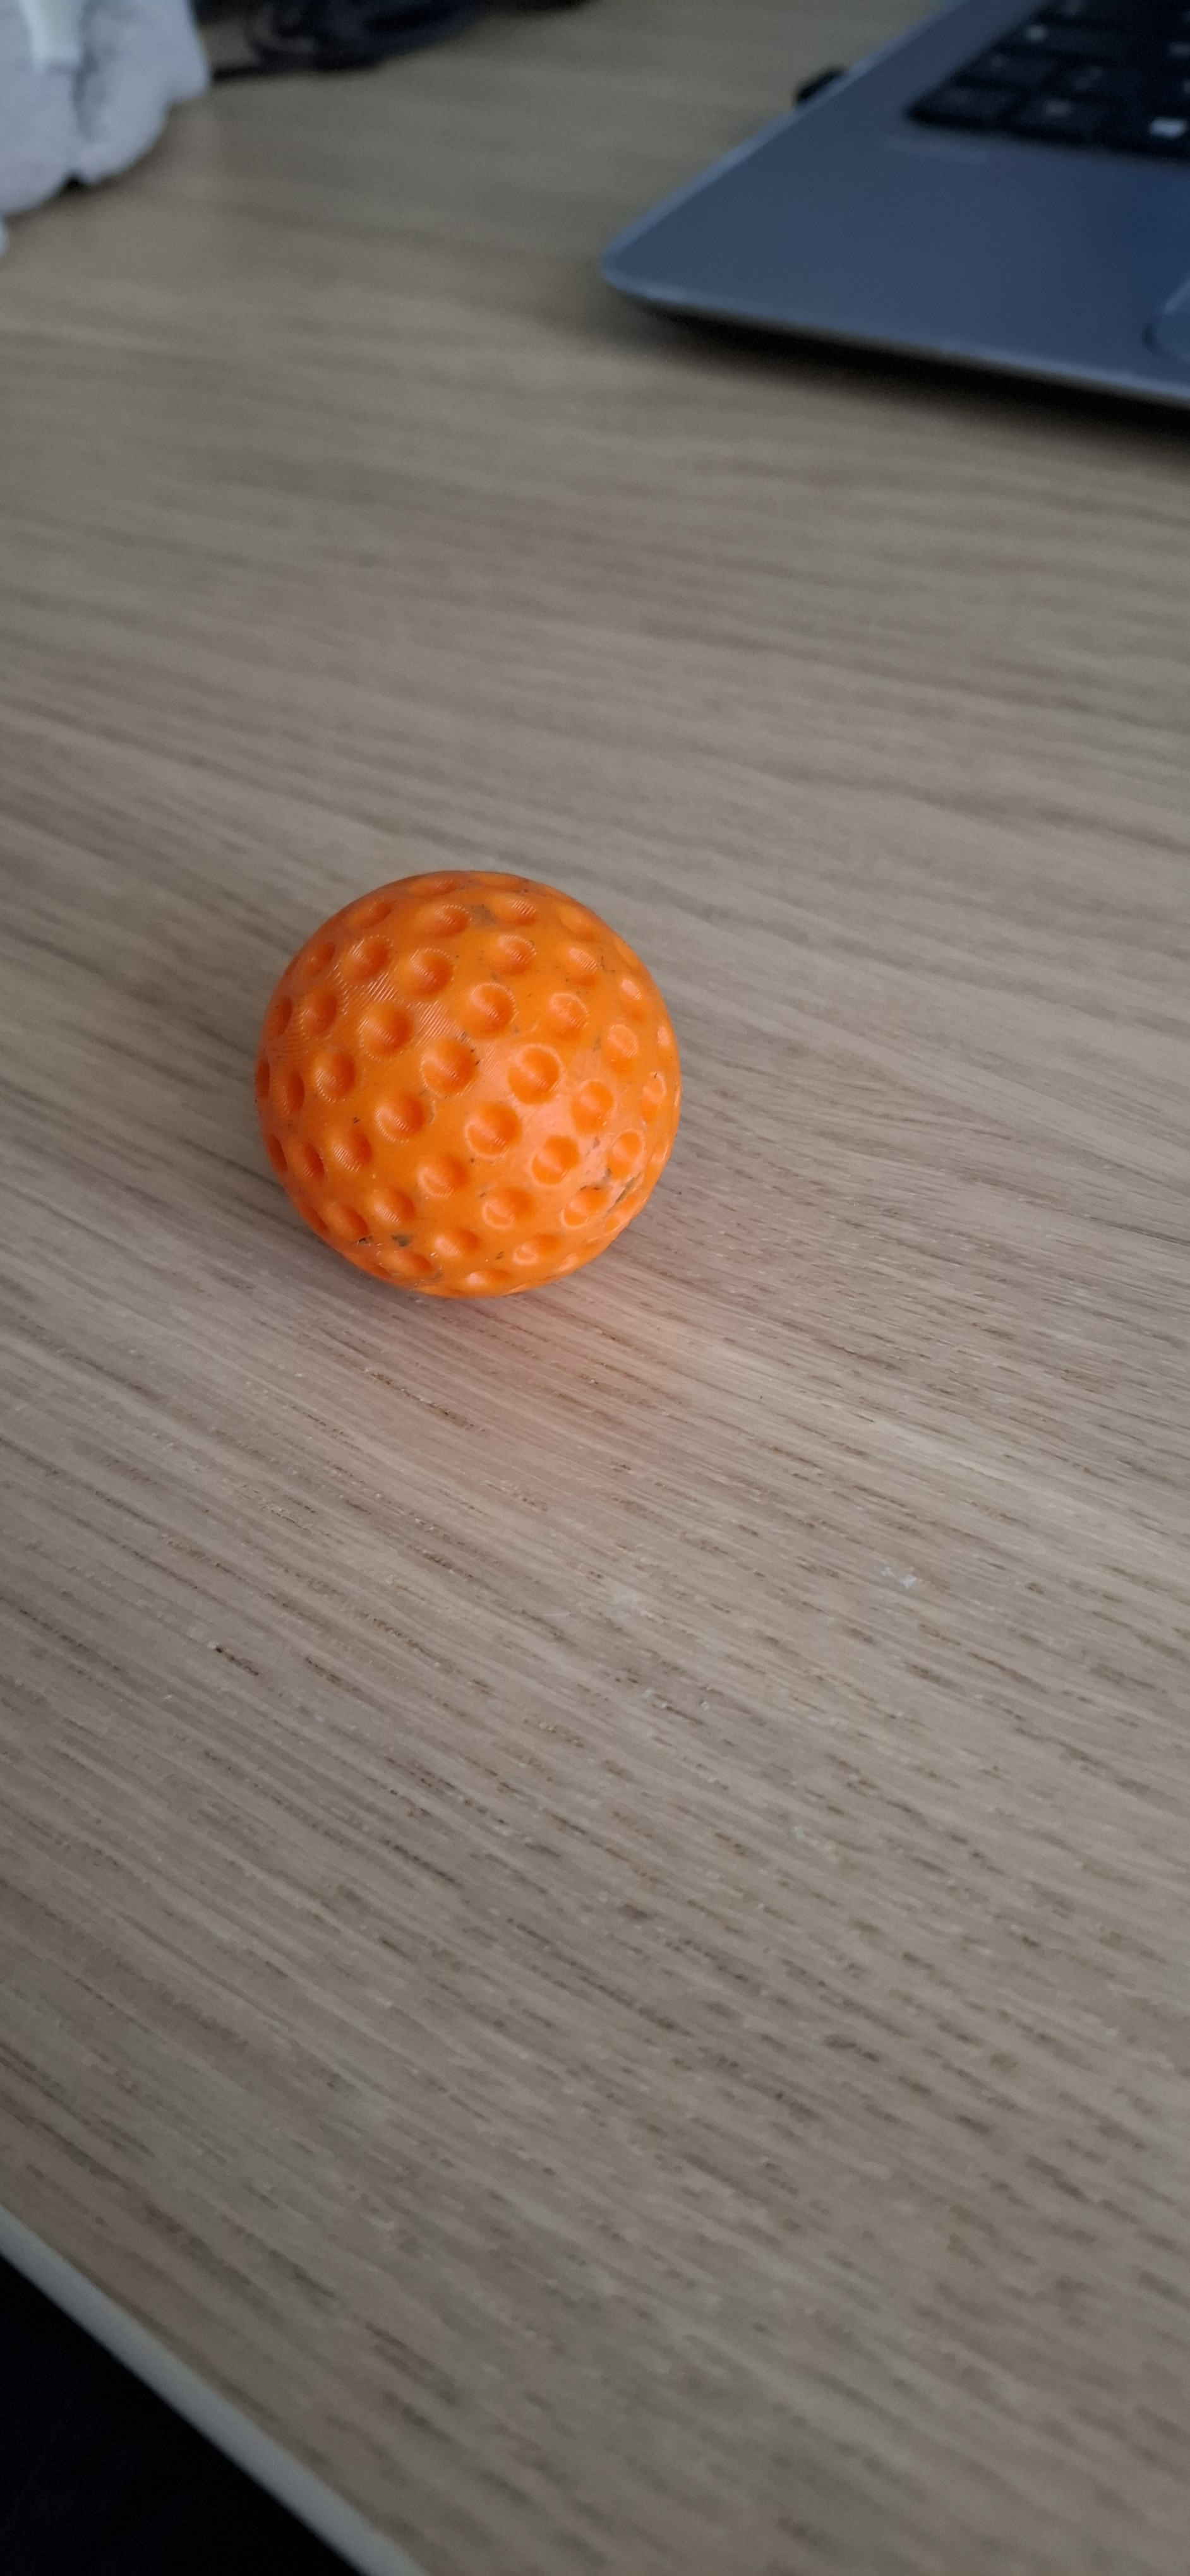ball: (404, 1094, 598, 2004)
